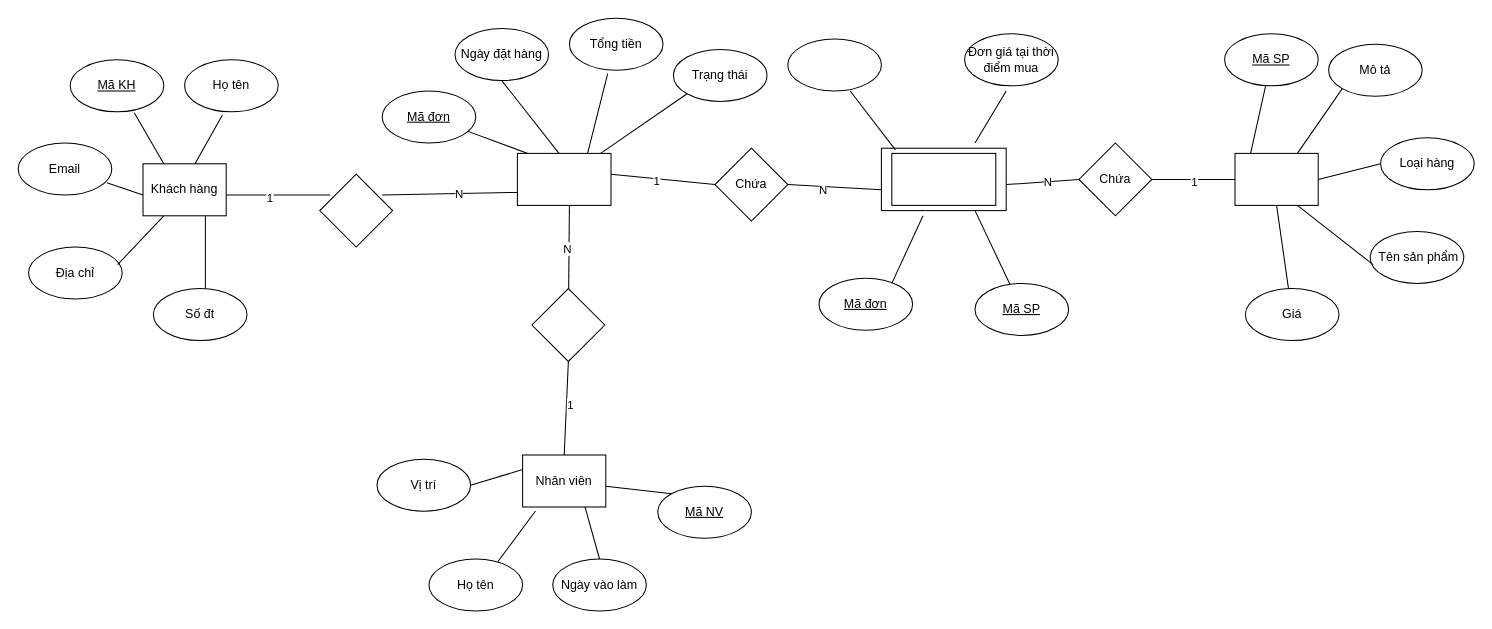
The diagram is 1492 pixels wide and 629 high, and some of its shapes have lost their labels. The centre of each missing label's shape, as x and y in pixels:
"Chi tiết đơn hàng" belongs at point (943, 178).
"Sản phẩm" belongs at point (1276, 178).
"Số lượng" belongs at point (834, 64).
"Xử lý" belongs at point (568, 324).
"Đơn hàng" belongs at point (563, 178).
"Đặt" belongs at point (356, 210).
